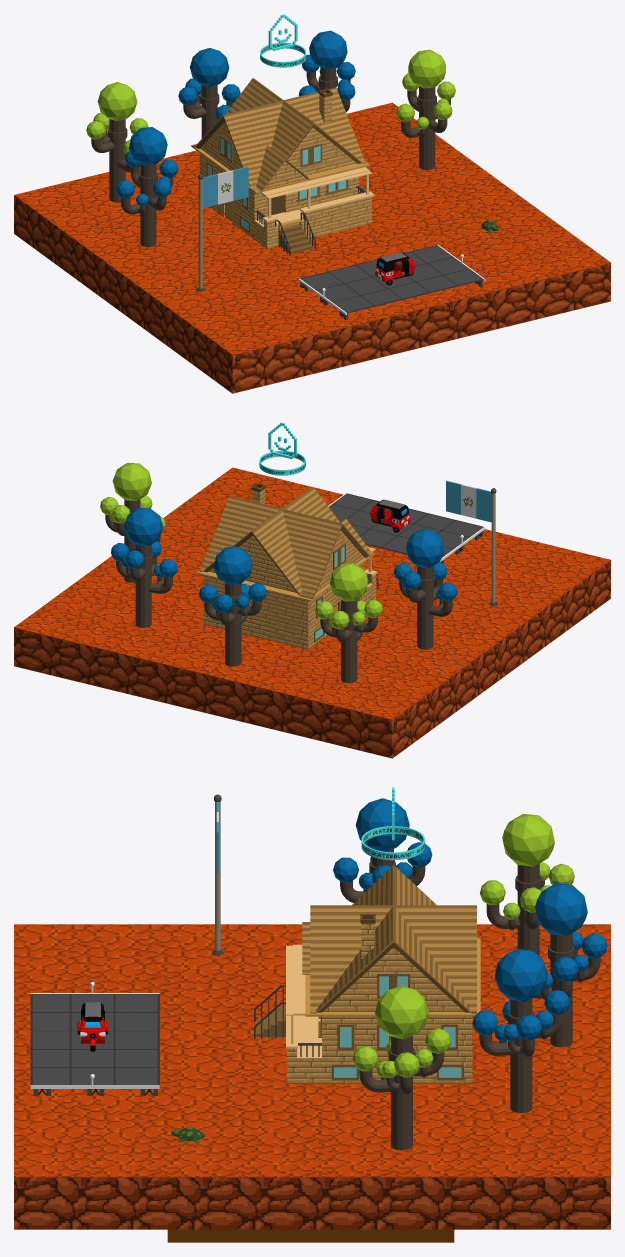
The picture shows the model from 3 angles, top to bottom: view 1: azimuth 30°, elevation 25°; view 2: azimuth 150°, elevation 25°; view 3: azimuth 270°, elevation 25°; orthographic projection. The views are drawn at different scales.
Parts seen in each view (by area): view 1: Cube.001, Cube.508, OBJRANDOM_GUATEMALAN_FLAG, TYPE_PREMIUM, VEHICLES_TUC_TUC; view 2: Cube.001, Cube.508, OBJRANDOM_GUATEMALAN_FLAG, TYPE_PREMIUM, VEHICLES_TUC_TUC; view 3: Cube.001, Cube.508, UNDERGROUND_ART_PIECE_VAN_GOGH, TYPE_PREMIUM, VEHICLES_TUC_TUC, OBJRANDOM_GUATEMALAN_FLAG.
Part boxes in pixels (x1,y1,x2,y2): Cube.001: [14, 30, 610, 393]; Cube.508: [191, 78, 374, 255]; OBJRANDOM_GUATEMALAN_FLAG: [196, 166, 248, 291]; TYPE_PREMIUM: [260, 14, 306, 67]; VEHICLES_TUC_TUC: [375, 252, 415, 285]; Cube.001: [14, 462, 610, 758]; Cube.508: [196, 483, 378, 649]; OBJRANDOM_GUATEMALAN_FLAG: [446, 480, 497, 605]; TYPE_PREMIUM: [259, 422, 305, 475]; VEHICLES_TUC_TUC: [369, 499, 410, 532]; Cube.001: [14, 798, 610, 1229]; Cube.508: [254, 865, 480, 1083]; UNDERGROUND_ART_PIECE_VAN_GOGH: [167, 1229, 454, 1242]; TYPE_PREMIUM: [361, 787, 424, 860]; VEHICLES_TUC_TUC: [77, 1002, 108, 1051]; OBJRANDOM_GUATEMALAN_FLAG: [211, 794, 223, 955].
Size of the model in its own units: 4000 by 2536 by 4000.
44 materials, 7 textured.
